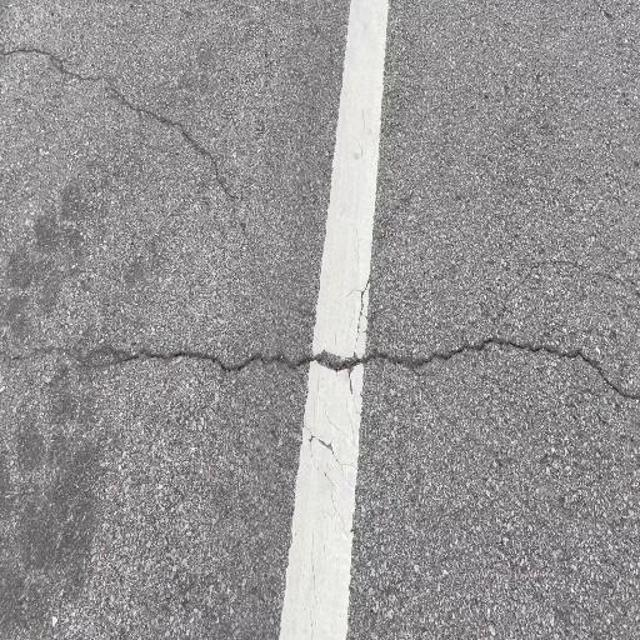Melintang: (0, 32, 280, 254), (1, 333, 638, 420)
